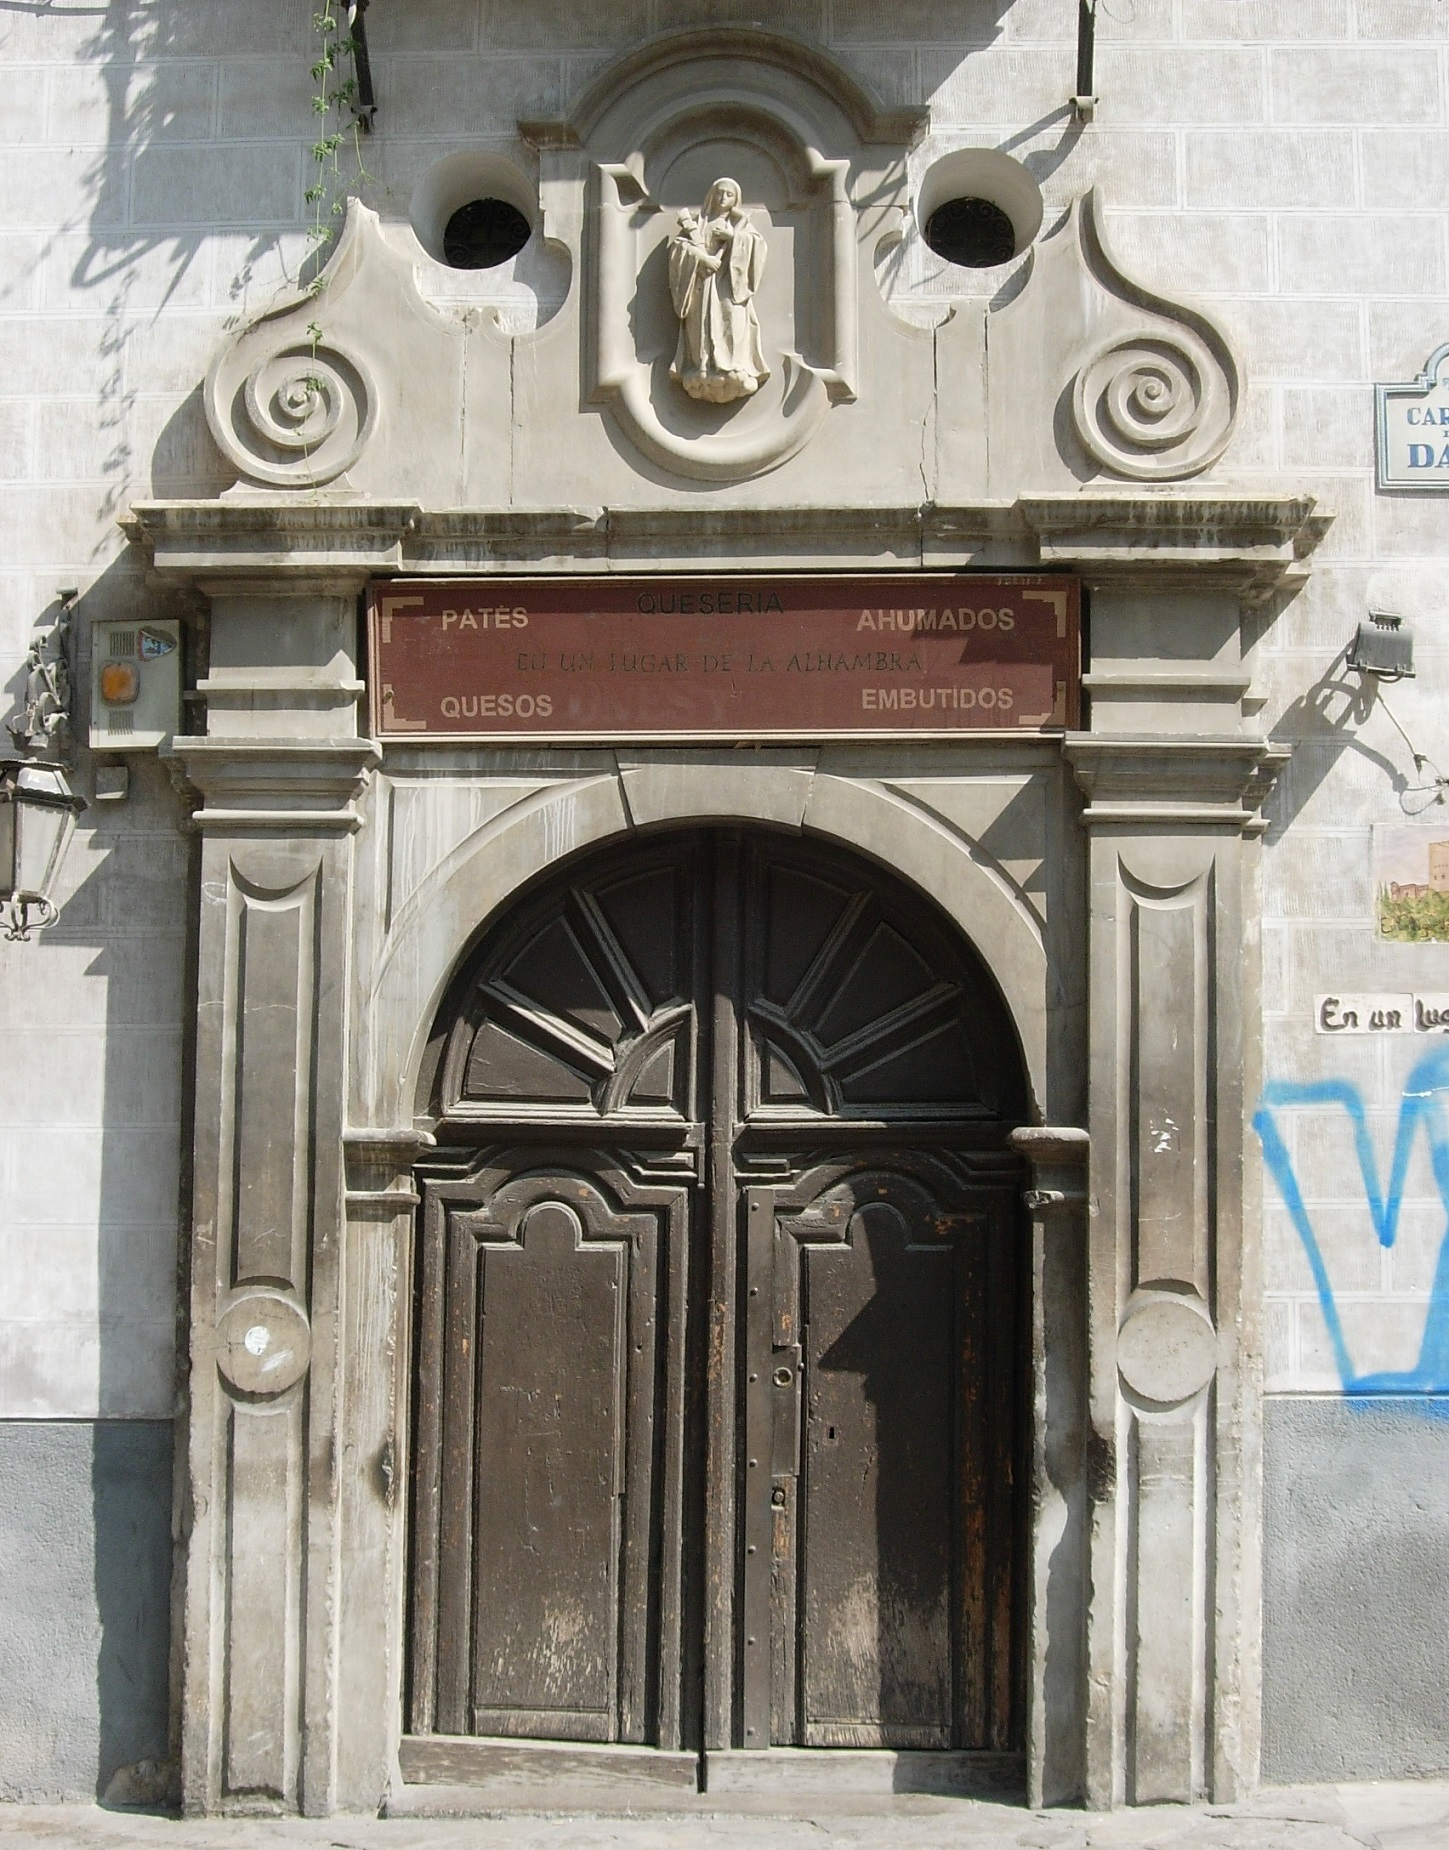arco-medio-punto: (386, 779, 1083, 1237)
ojo-de-buey: (401, 146, 553, 282), (916, 153, 1071, 264)
